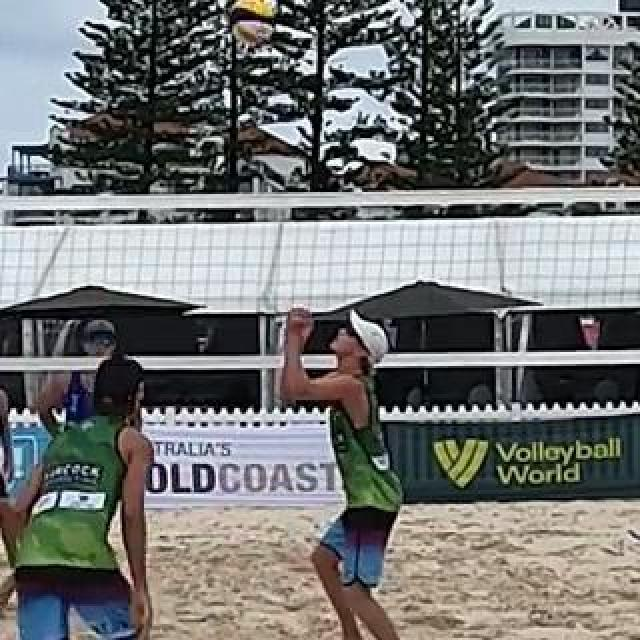volleyball: (231, 0, 275, 46)
